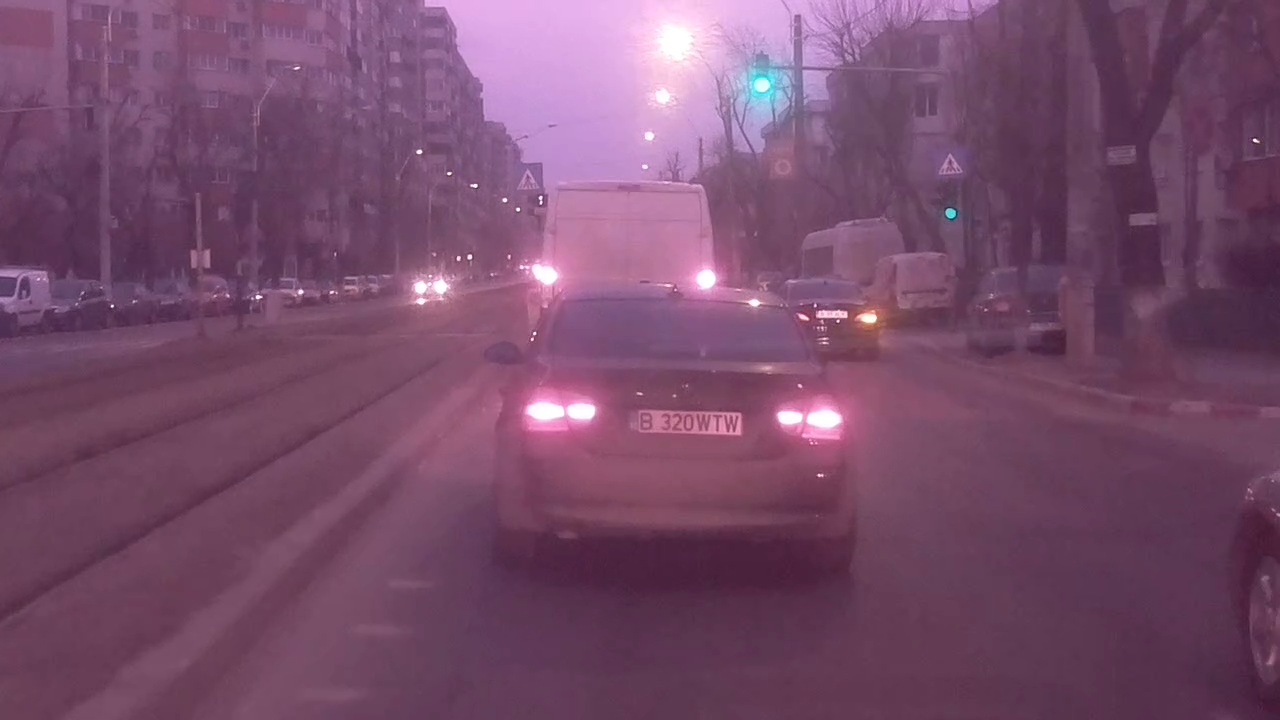license-plate: (624, 406, 745, 437)
